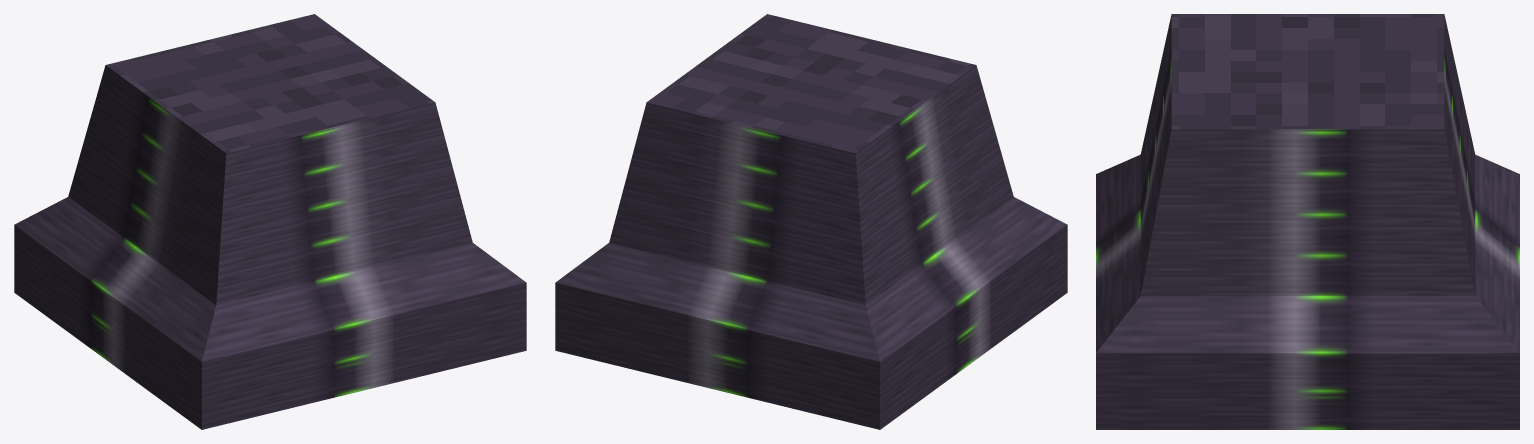
Rendered from altarcenter.obj.
3 views of the same model, side by side, from view 1: azimuth 30°, elevation 25°; view 2: azimuth 150°, elevation 25°; view 3: azimuth 270°, elevation 25° (orthographic). The views are drawn at different scales.
Parts seen in each view (by area): view 1: Cube.002_Cube; view 2: Cube.002_Cube; view 3: Cube.002_Cube.
Boxes of the visible parts, x1=… form: Cube.002_Cube: x1=14, y1=14, x2=526, y2=429; Cube.002_Cube: x1=555, y1=14, x2=1067, y2=429; Cube.002_Cube: x1=1096, y1=14, x2=1519, y2=429.
Size of the model in its own units: 1 by 0.7 by 1.
